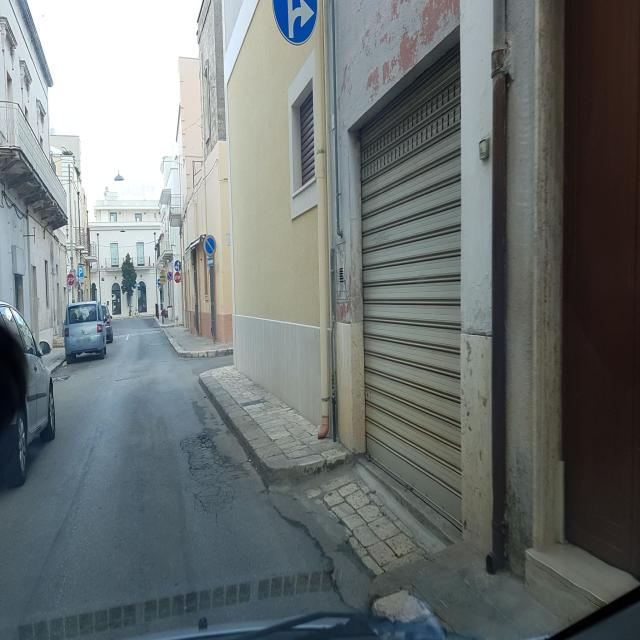forb_stopping: (203, 234, 217, 257), (167, 272, 173, 282)
